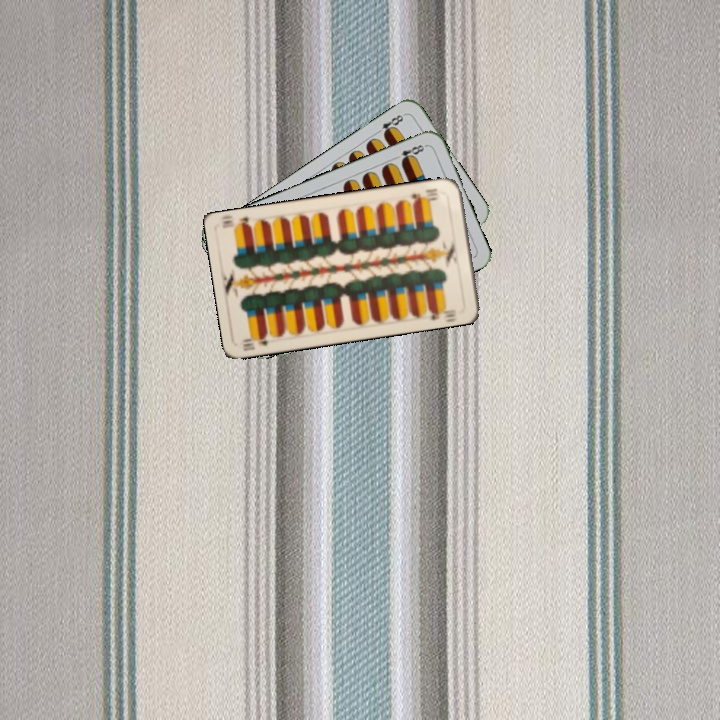E10: (238, 330, 270, 353), (407, 184, 440, 205)
E8: (371, 110, 408, 139), (390, 141, 429, 166)
